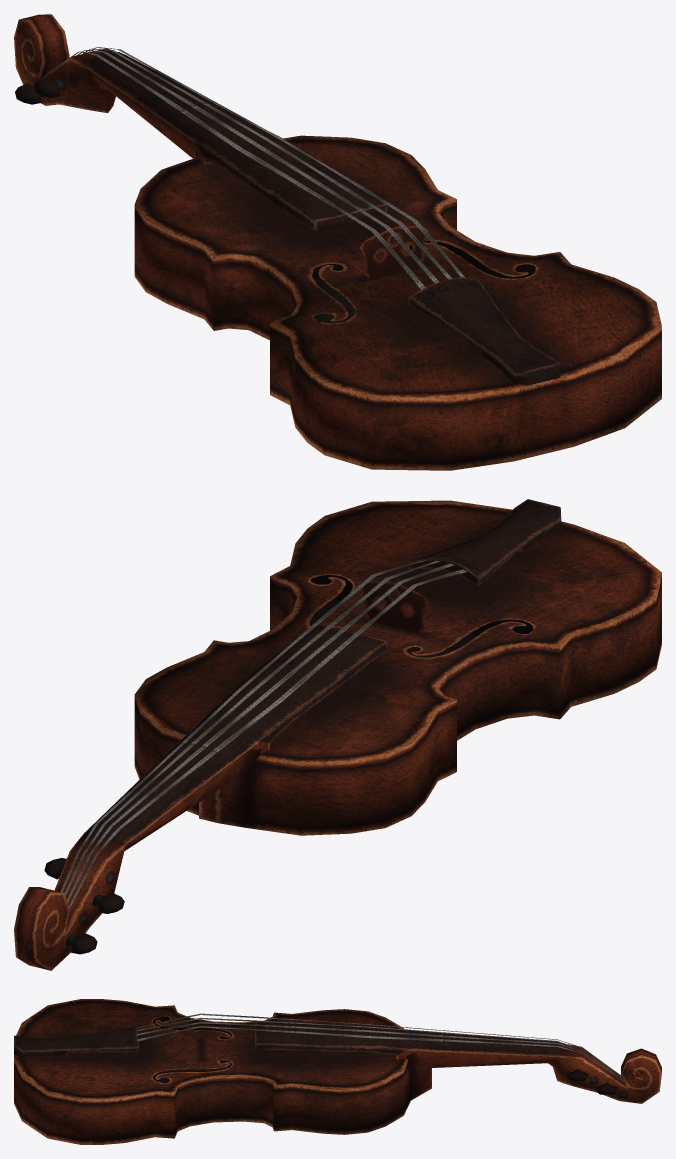
File: violin.dae
3 views of the same model, one above another, from view 1: azimuth 30°, elevation 25°; view 2: azimuth 150°, elevation 25°; view 3: azimuth 270°, elevation 25° (orthographic). The views are drawn at different scales.
Parts seen in each view (by area): view 1: polySurface8; view 2: polySurface8; view 3: polySurface8.
Part boxes in pixels (x1=…): polySurface8: x1=14, y1=14, x2=661, y2=470; polySurface8: x1=14, y1=499, x2=661, y2=970; polySurface8: x1=14, y1=999, x2=661, y2=1144.
Bounding box in the file's own units: 0.3447 × 0.1274 × 0.9361.
